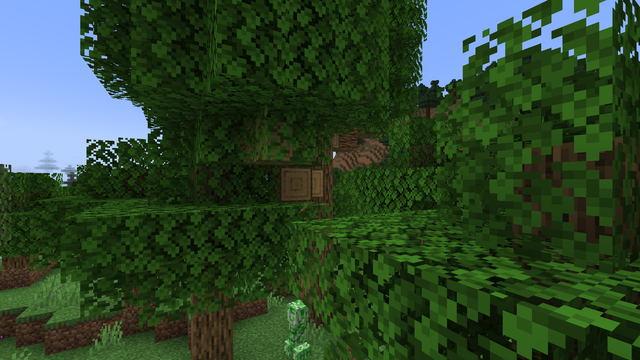creepers: (285, 298, 309, 359)
